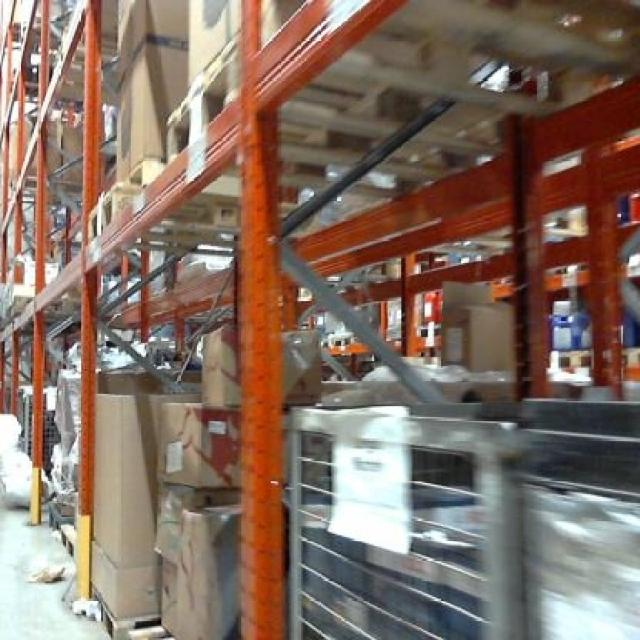pallets: (286, 398, 637, 637)
